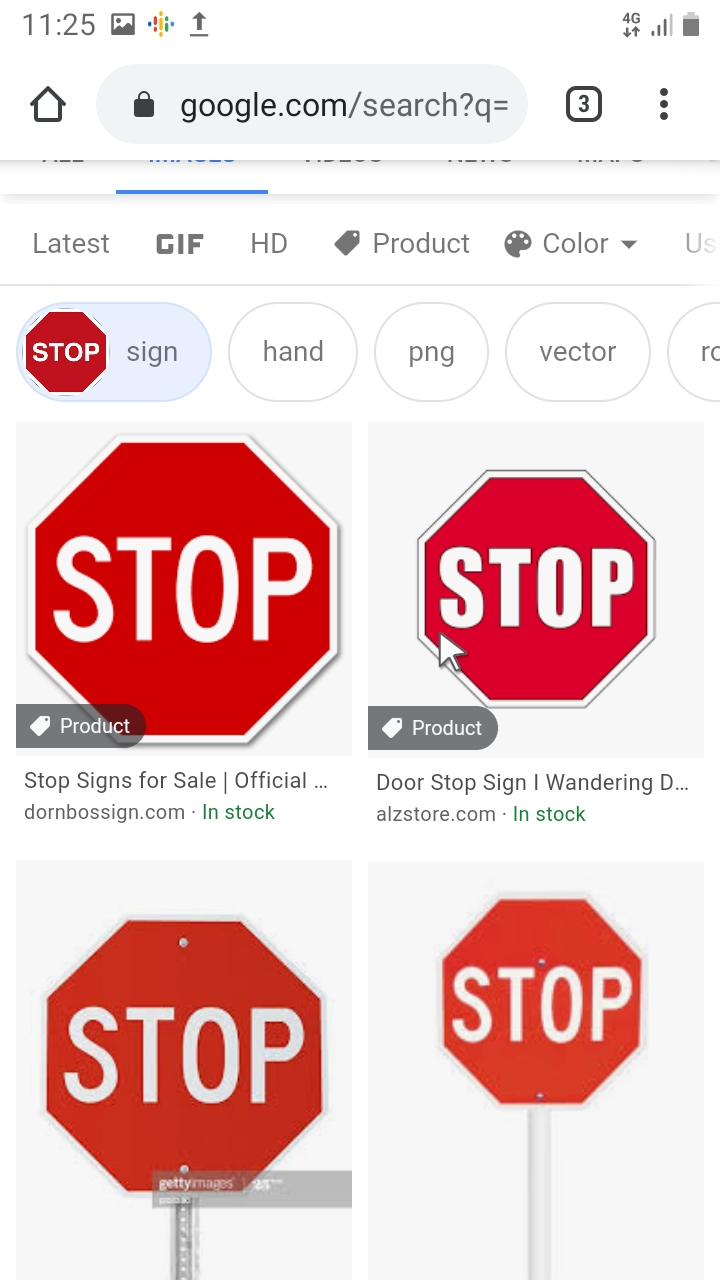stop: (25, 894, 341, 1215), (29, 433, 339, 719), (411, 466, 662, 715), (423, 880, 668, 1135), (27, 308, 113, 412)
